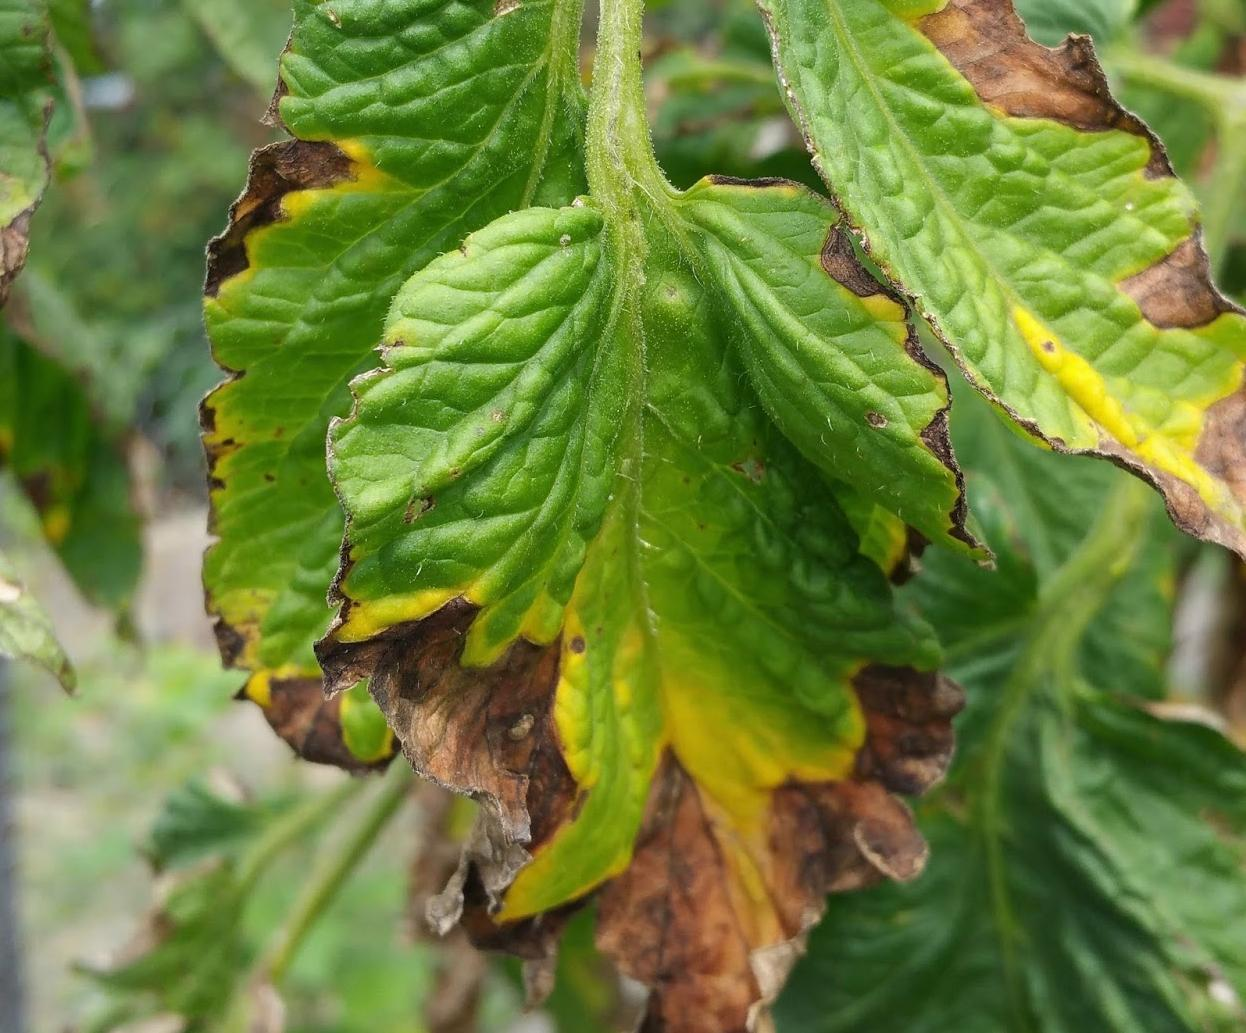Tomato leaf bacterial spot: (315, 132, 955, 1033), (153, 0, 639, 793), (728, 0, 1246, 593)
